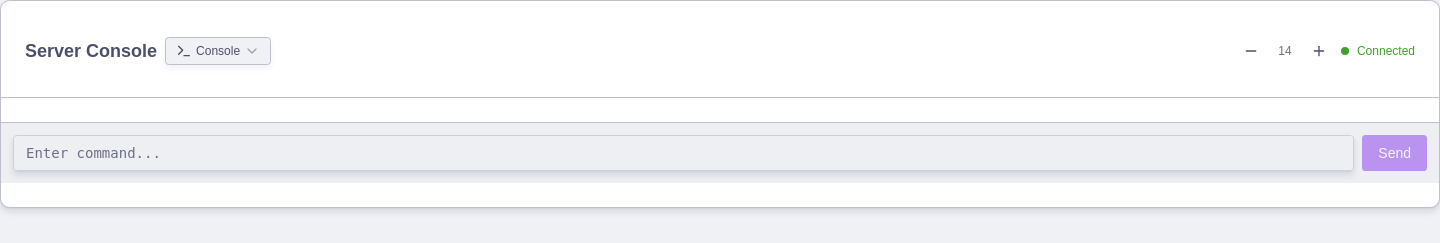
Test: ConsolePanel › connection state › command input is disabled in log file mode
# Open dropdown
Click the button with test id "source-selector" at (218, 51), box [165, 37, 271, 65]
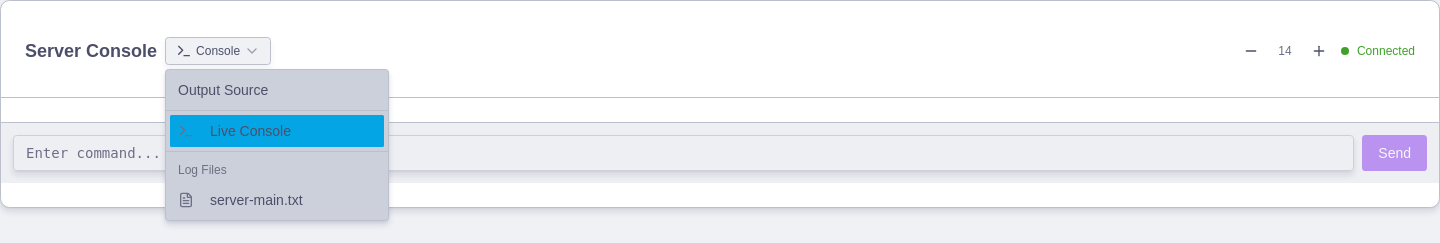
# Click on log file
Click the menu item "server-main.txt" at (240, 200), box [178, 192, 303, 208]
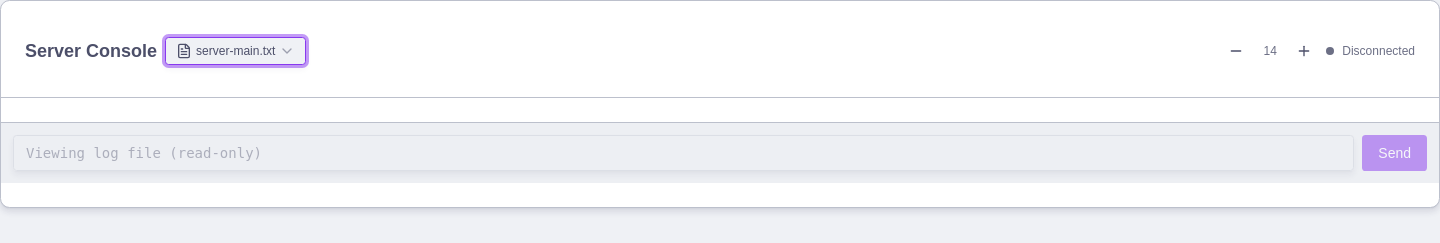
Expected: the field named "Command input" is disabled, [13, 135, 1354, 171]
